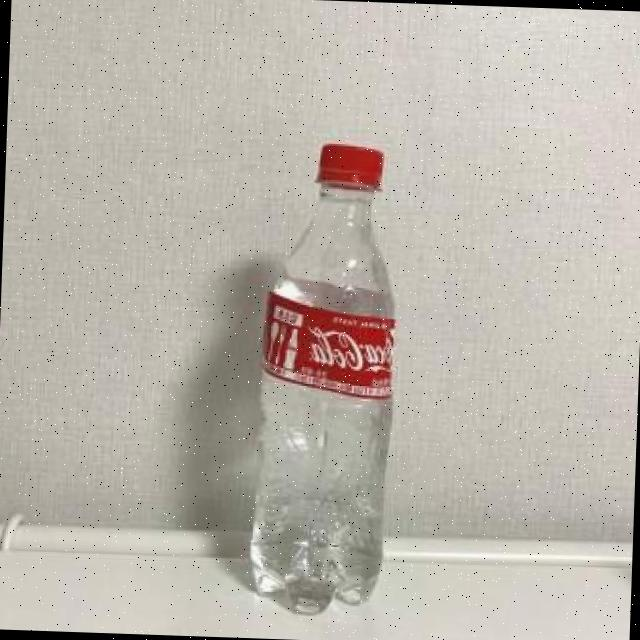bottle: (224, 128, 416, 640)
cap: (304, 140, 395, 193)
label: (256, 298, 404, 385)
